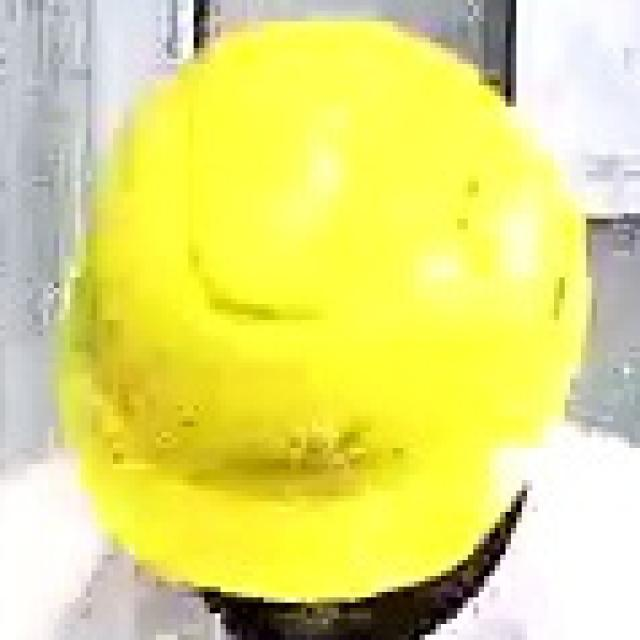yellow helmet: (56, 24, 594, 609)
